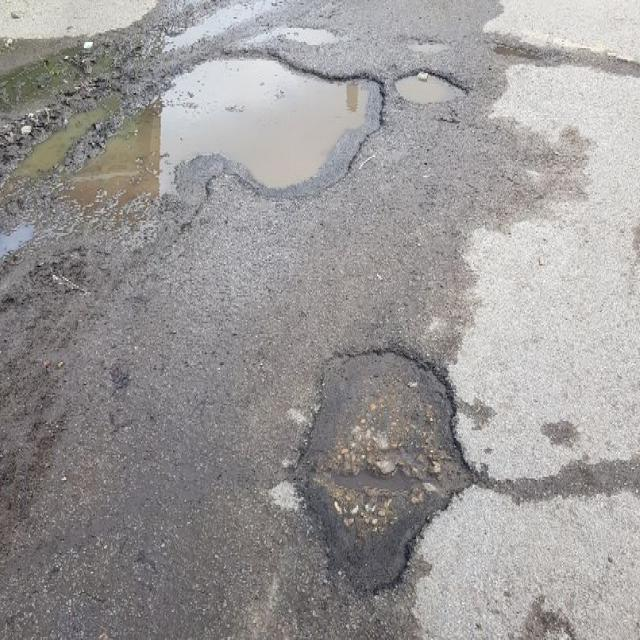Pothole: (58, 42, 388, 238), (284, 332, 477, 609), (390, 58, 472, 109)
